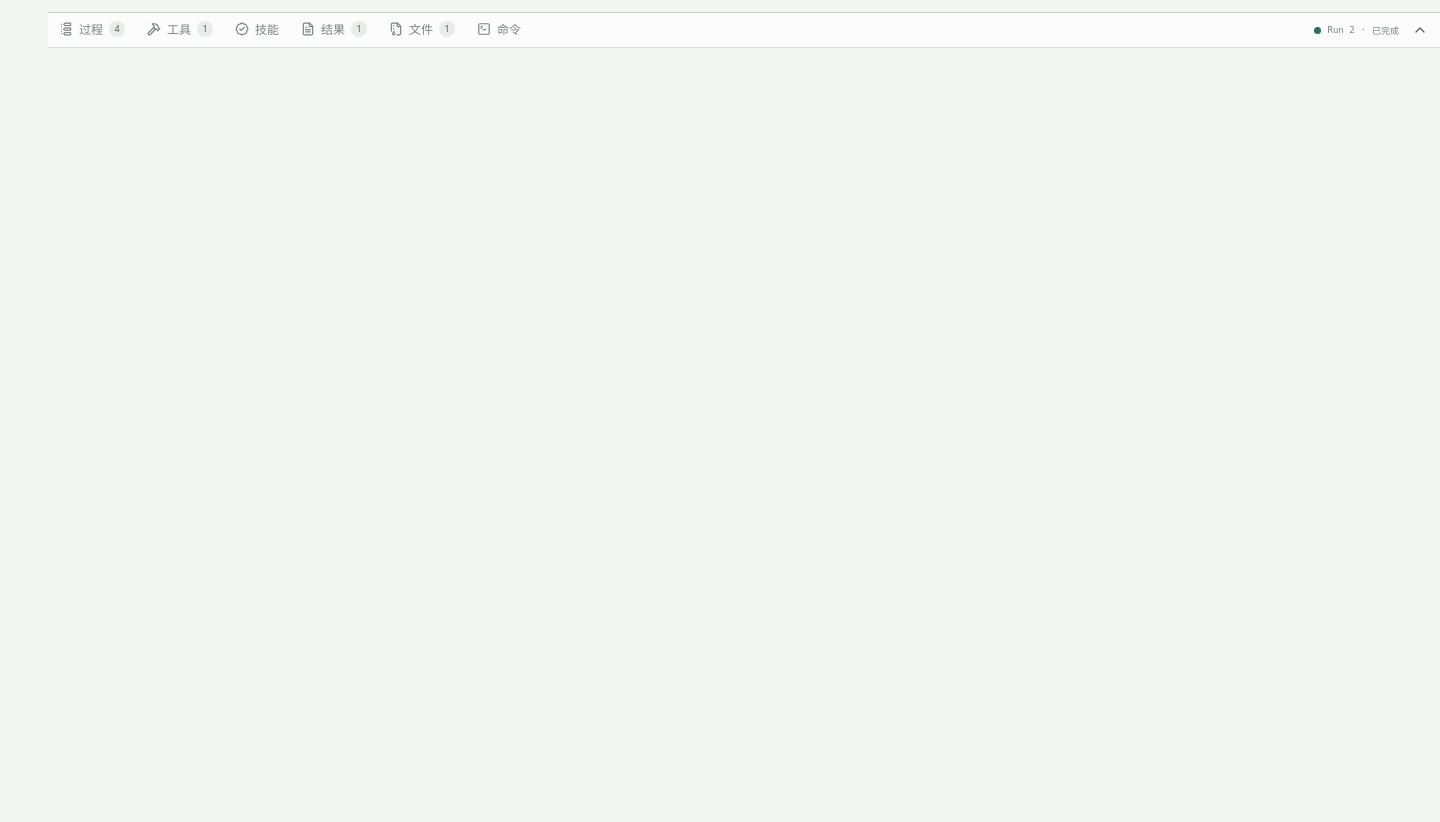
Test: RunDrawer › marks historical v1 candidates as unverified without fabricated Provider receipts
Click the tab "结果 1".
click(334, 30)  # box [290,13,378,47]
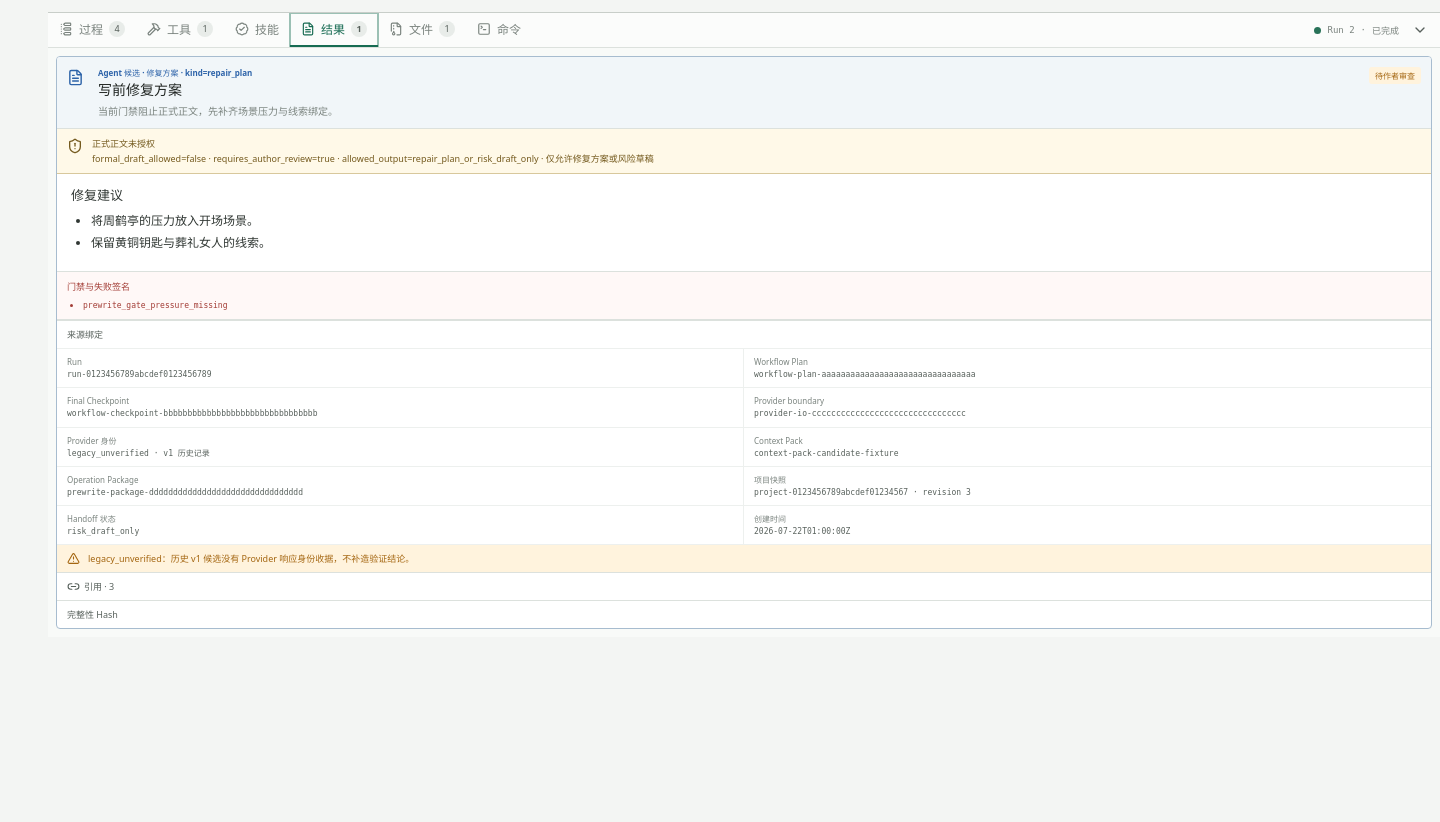
Expected: the text "legacy_unverified · v1 历史记录" is shown, [67,449,210,458]
Expected: the text "legacy_unverified：历史 v1 候选没有 Provider 响应身份收据，不补造验证结论。" is shown, [88,552,414,565]
